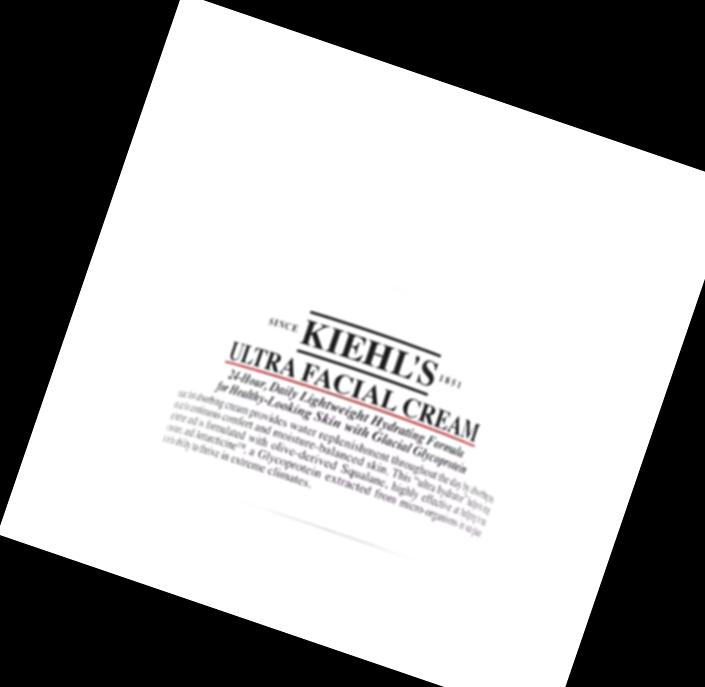cosmetic: (141, 197, 562, 581)
